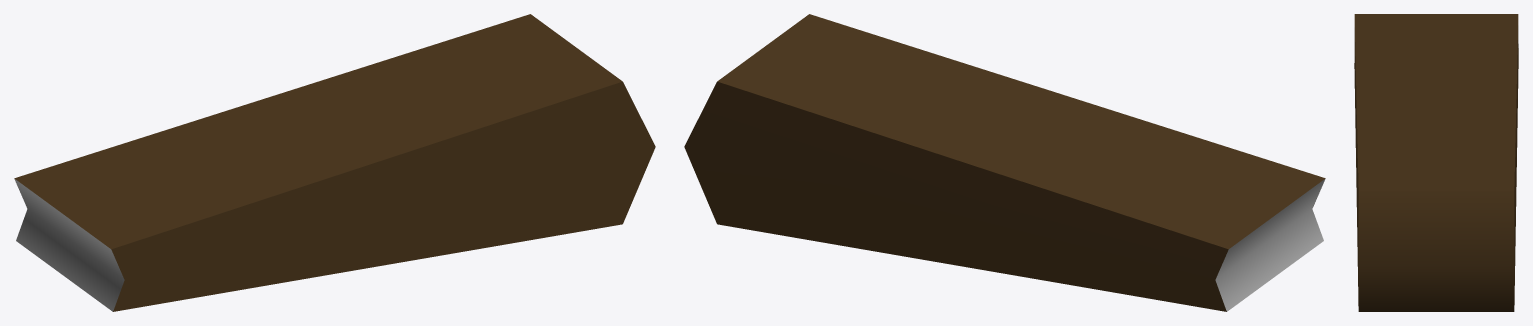
The model's file is pala singola.fbx.
3 views of the same model, side by side, from view 1: azimuth 30°, elevation 25°; view 2: azimuth 150°, elevation 25°; view 3: azimuth 270°, elevation 25° (orthographic). The views are drawn at different scales.
Visible parts, largest first — view 1: pCube6; view 2: pCube6; view 3: pCube6.
Part boxes in pixels (box(x1,y1,x2,y2)): pCube6: box(14, 14, 655, 311); pCube6: box(684, 14, 1325, 311); pCube6: box(1354, 14, 1518, 311).
Bounding box in the file's own units: 10.04 × 2.51 × 3.09.
